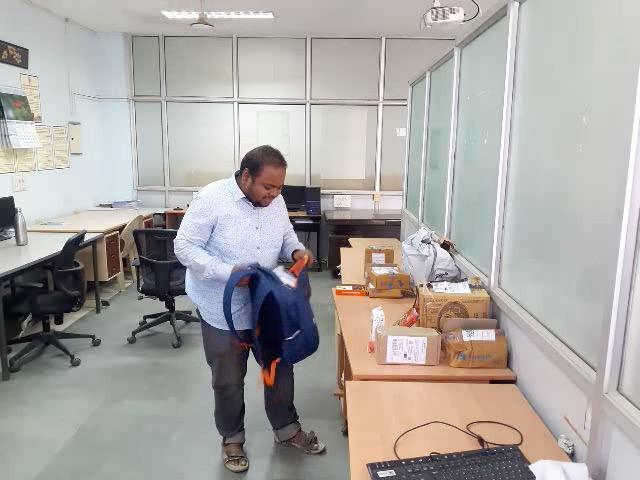shoplifting: (165, 228, 344, 451)
